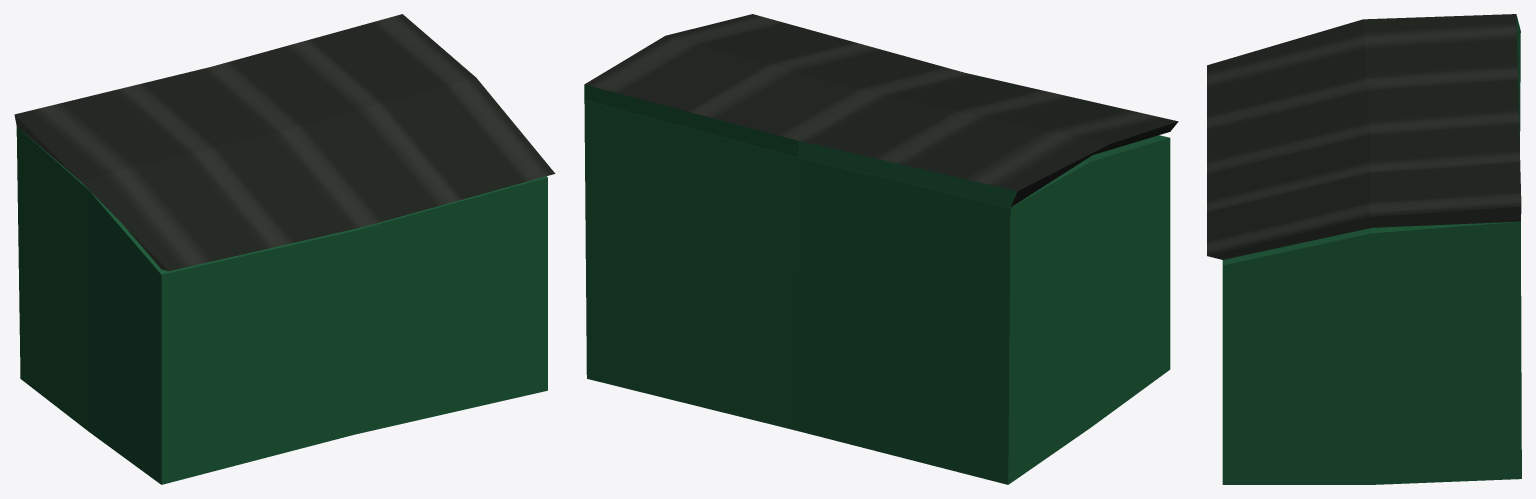
The model's file is dumpster.fbx.
3 views of the same model, side by side, from view 1: azimuth 30°, elevation 25°; view 2: azimuth 150°, elevation 25°; view 3: azimuth 270°, elevation 25° (orthographic). The views are drawn at different scales.
Parts seen in each view (by area): view 1: Cube; view 2: Cube; view 3: Cube.
Part boxes in pixels (x1,y1,x2,y2): Cube: (14,14,555,484); Cube: (584,14,1178,484); Cube: (1207,14,1521,484).
Bounding box in the file's own units: 4.9 × 3.25 × 3.17.
